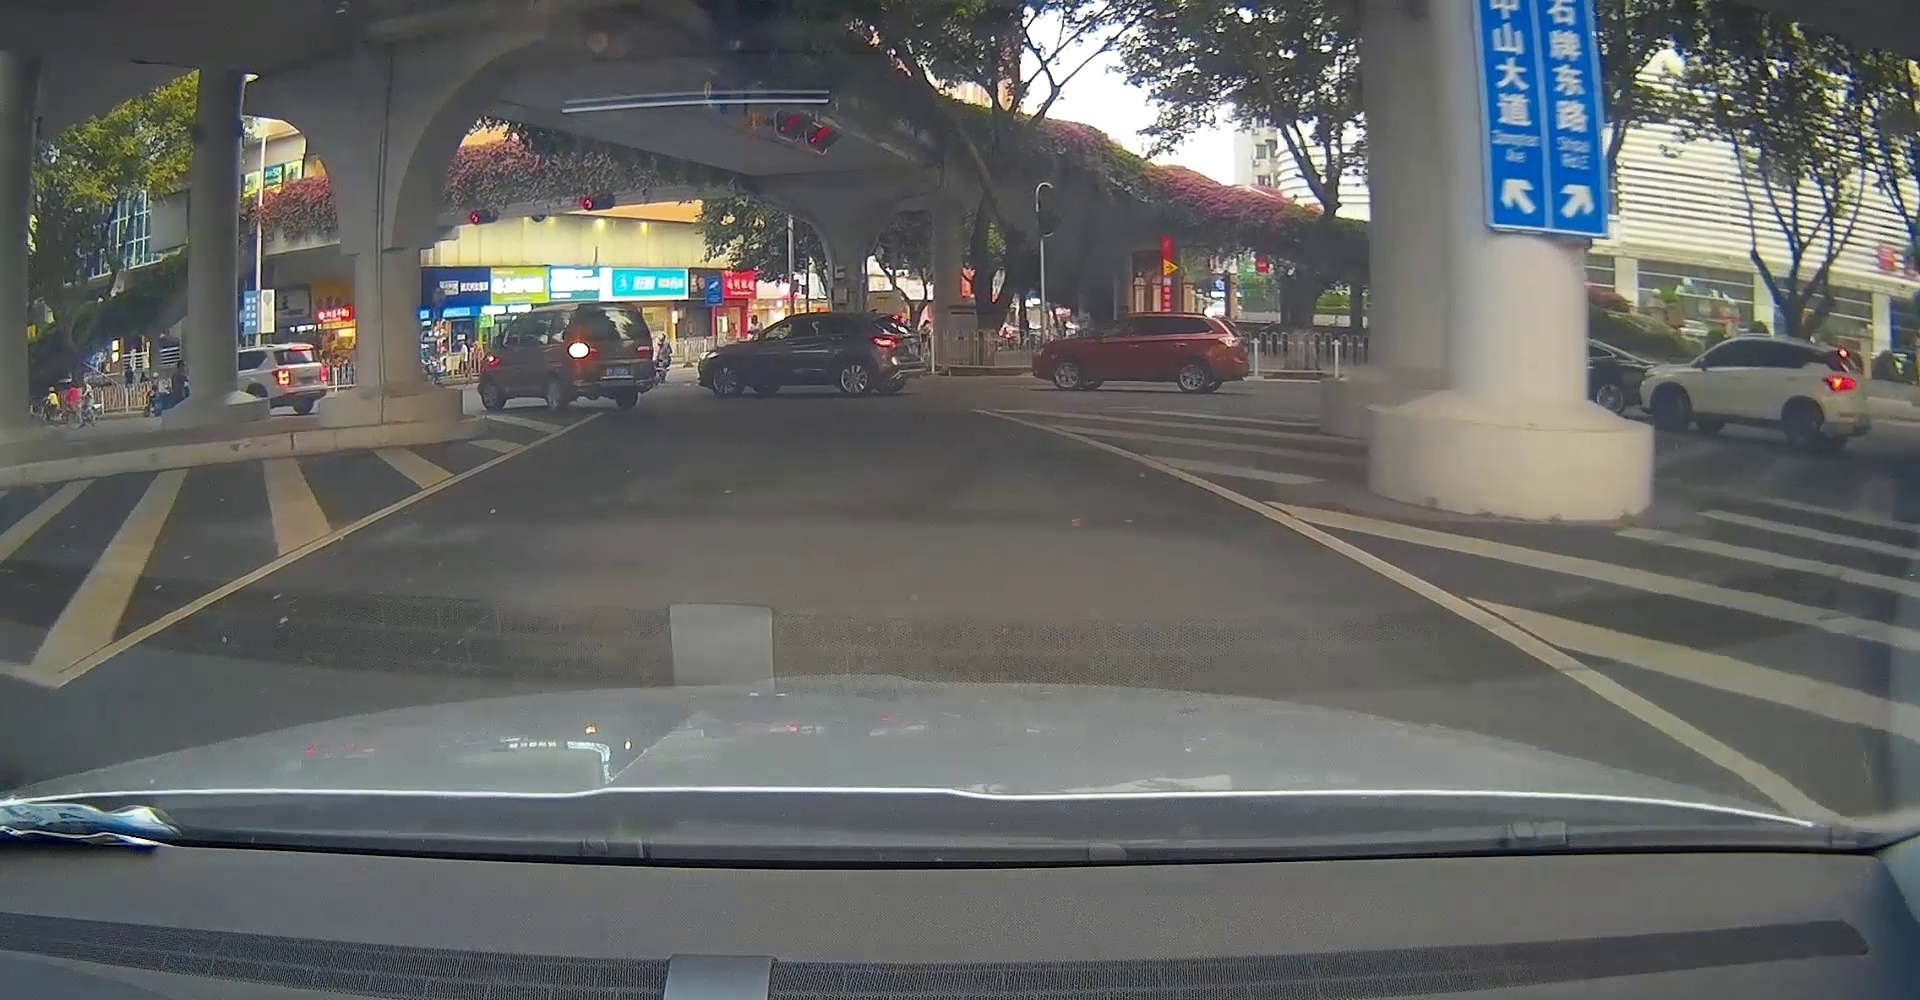L_light: (568, 341, 598, 354), (272, 369, 290, 386)
R_light: (635, 346, 653, 357), (319, 365, 328, 382)
T_light: (601, 307, 626, 311), (291, 346, 309, 350)
day-left: (563, 301, 654, 411)
day-no: (268, 343, 329, 414)
